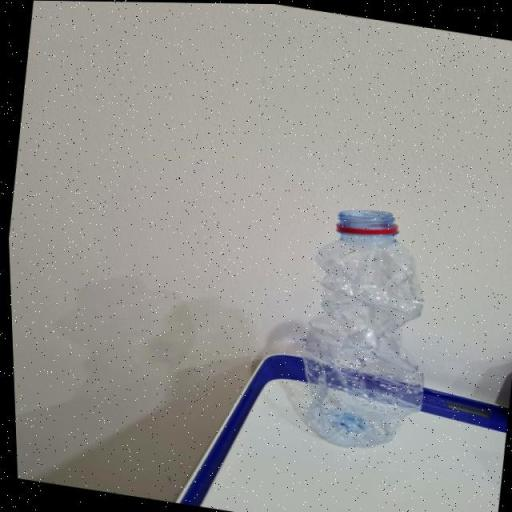plastic: (269, 194, 457, 462)
